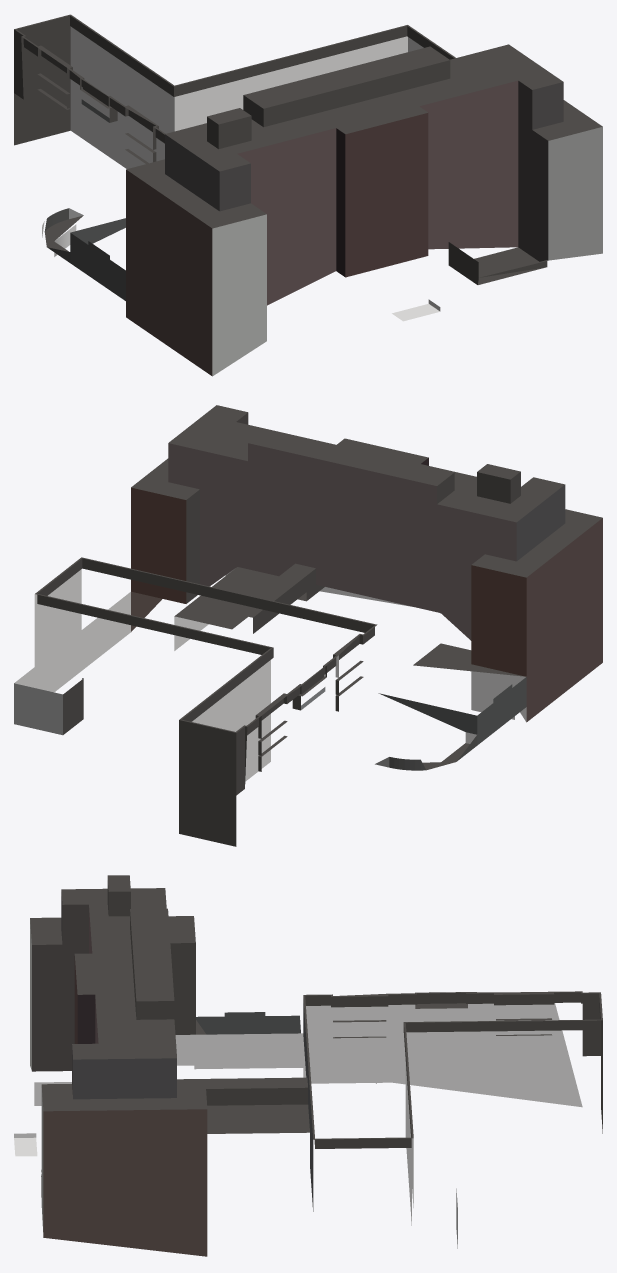
The model's file is sheraton-read-house.glb.
3 views of the same model, one above another, from view 1: azimuth 30°, elevation 25°; view 2: azimuth 150°, elevation 25°; view 3: azimuth 270°, elevation 25° (orthographic). The views are drawn at different scales.
Parts seen in each view (by area): view 1: LOD0; view 2: LOD0; view 3: LOD0.
Part boxes in pixels (<box>): LOD0: <box>14,14,602,376</box>; LOD0: <box>14,405,602,846</box>; LOD0: <box>14,875,602,1256</box>.
Size of what is drawn, in the model's own units: 74.62 by 37.4 by 94.18.
Materials: 3 (3 with a texture image).
